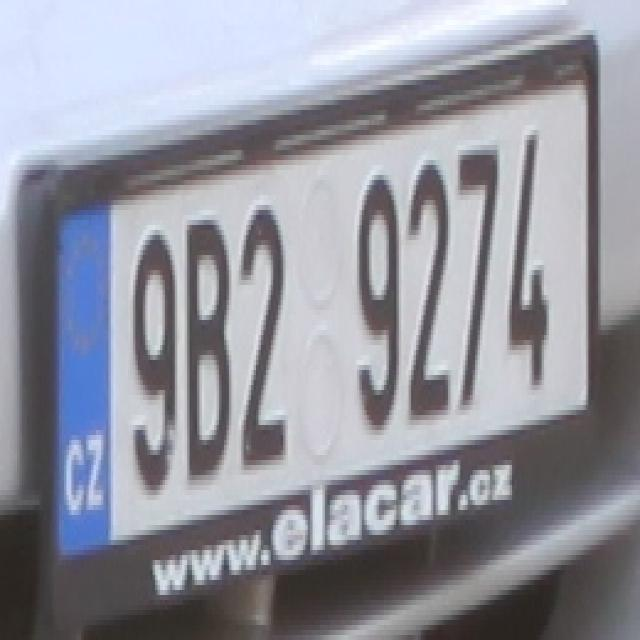2: (237, 200, 286, 460), (406, 160, 451, 420)
4: (502, 130, 552, 390)
7: (455, 145, 500, 410)
9: (354, 170, 402, 430), (133, 230, 177, 490)
B: (182, 210, 229, 490)
